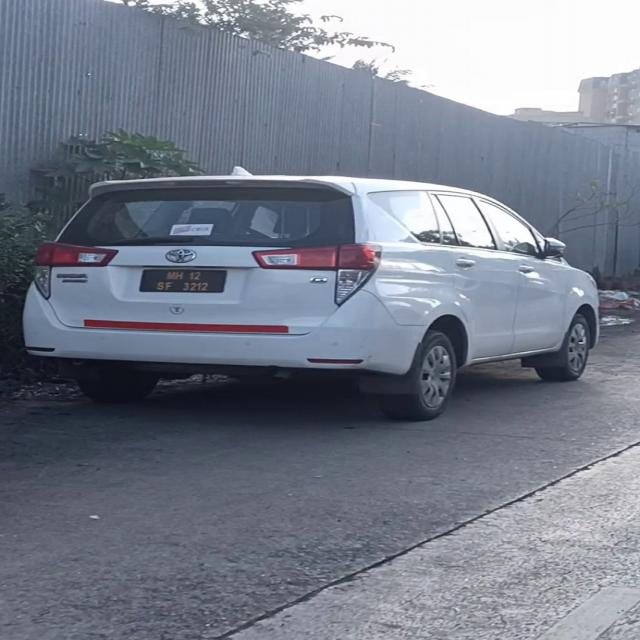Plate: (140, 269, 229, 294)
